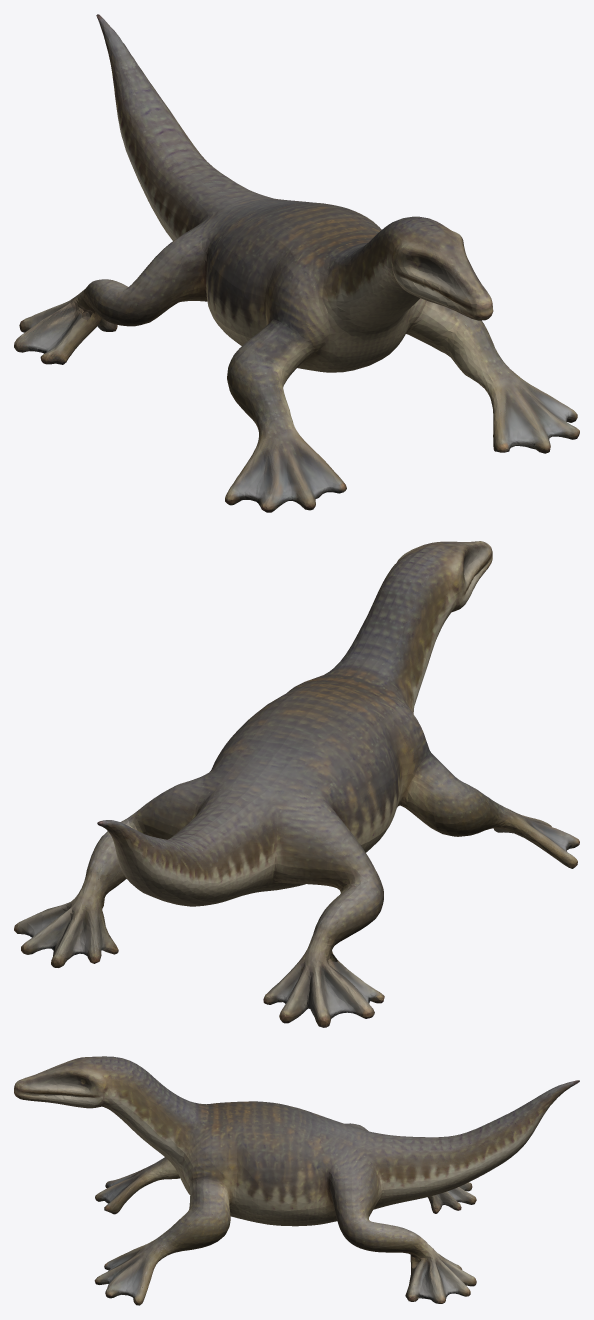
3 renders of one model, top to bottom at view 1: azimuth 30°, elevation 25°; view 2: azimuth 150°, elevation 25°; view 3: azimuth 270°, elevation 25°, orthographic. The views are drawn at different scales.
Parts seen in each view (by area): view 1: world; view 2: world; view 3: world.
Boxes of the visible parts, x1,y1,x2,y2 form: world: (14,14,579,512); world: (14,541,579,1027); world: (14,1056,579,1305).
Bounding box in the file's own units: 0.5306 × 0.3625 × 0.9988.
Materials: 1 (1 with a texture image).
